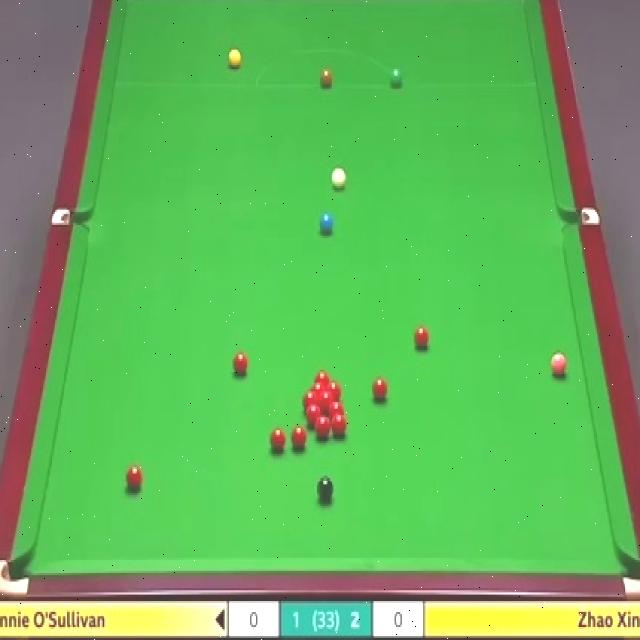black-ball: (317, 475, 334, 503)
blue-ball: (319, 212, 333, 232)
brown-ball: (319, 69, 333, 87)
green-ball: (389, 65, 404, 90)
pink-ball: (549, 351, 568, 378)
red-ball: (371, 376, 388, 404), (270, 424, 286, 453), (290, 426, 305, 453), (125, 465, 141, 490), (320, 390, 336, 414), (234, 351, 248, 378), (316, 415, 332, 438), (414, 326, 429, 350), (306, 402, 320, 427), (331, 415, 346, 437), (328, 402, 345, 419), (302, 392, 318, 410), (326, 381, 340, 401), (314, 368, 332, 382), (310, 381, 327, 394)
white-ball: (330, 167, 346, 186)
yellow-ball: (228, 48, 243, 70)
